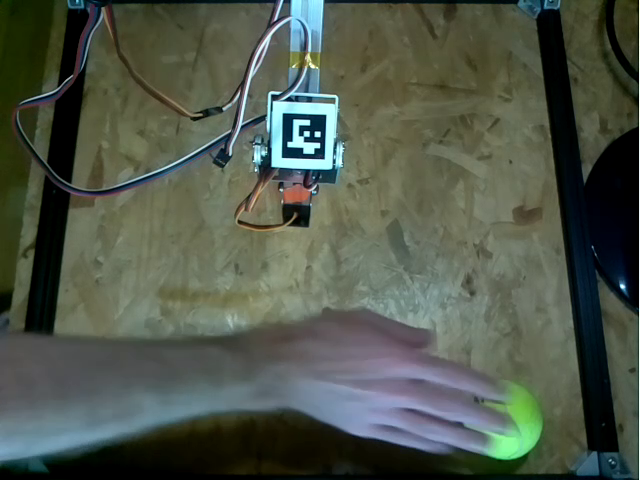tennis_ball: (470, 381, 544, 459)
